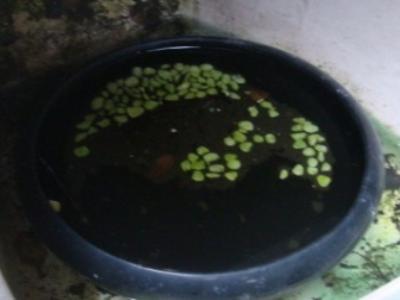plate: (15, 33, 387, 299)
